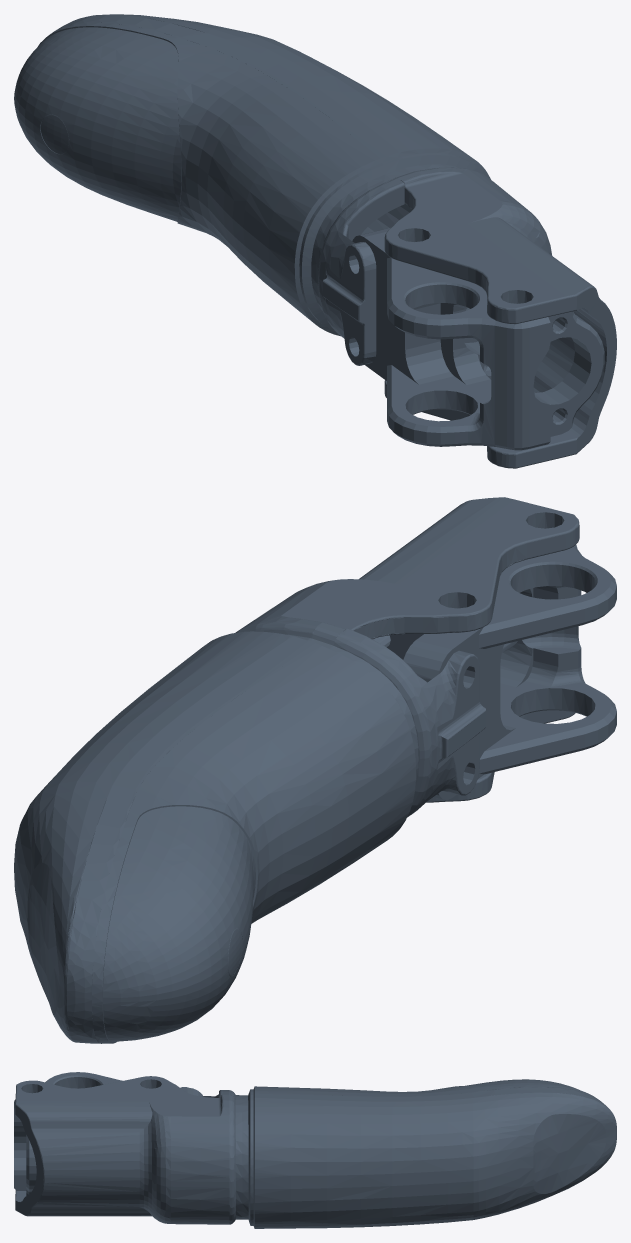
Rendered from R_thumb_dist.dae.
3 renders of one model, top to bottom at view 1: azimuth 30°, elevation 25°; view 2: azimuth 150°, elevation 25°; view 3: azimuth 270°, elevation 25°, orthographic. The views are drawn at different scales.
Visible parts, largest first — view 1: R_thumb_dist; view 2: R_thumb_dist; view 3: R_thumb_dist.
Part boxes in pixels (left/top/right/bottom): R_thumb_dist: left=14, top=14, right=616, bottom=468; R_thumb_dist: left=14, top=497, right=616, bottom=1043; R_thumb_dist: left=14, top=1072, right=616, bottom=1228.
Bounding box in the file's own units: 0.0318 × 0.099 × 0.022.
